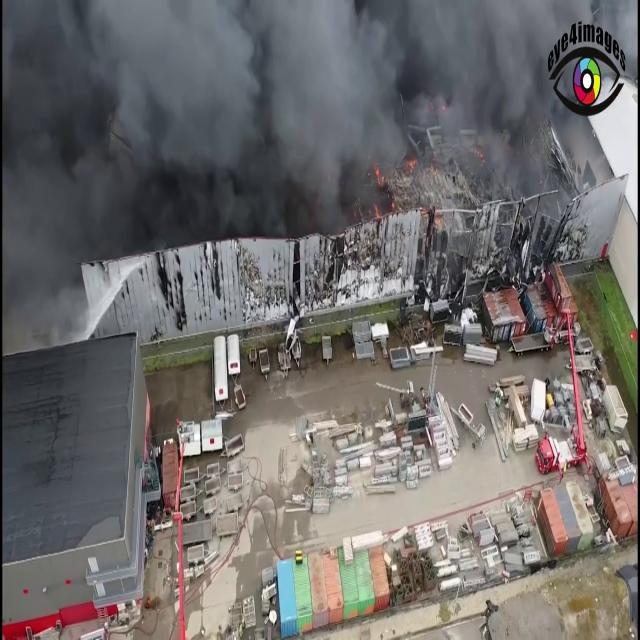Smoke: (1, 0, 609, 231)
